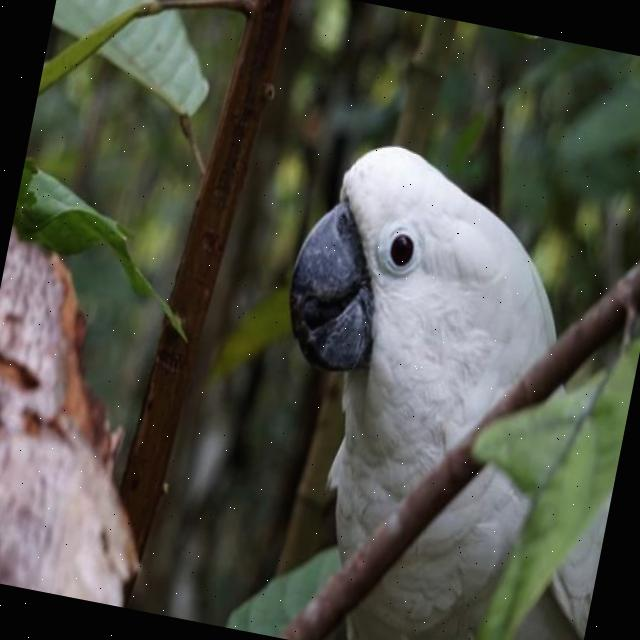Kakatua Putih: (207, 110, 640, 640)
